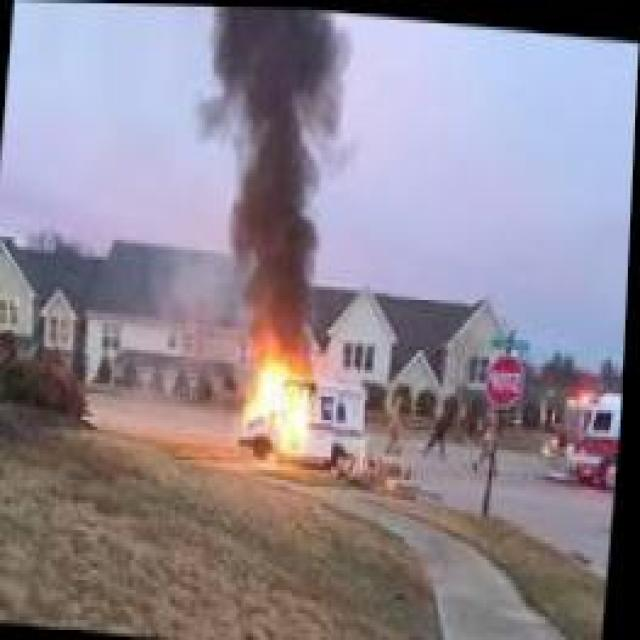Fire: (221, 333, 331, 460)
Smoke: (170, 3, 380, 340)
